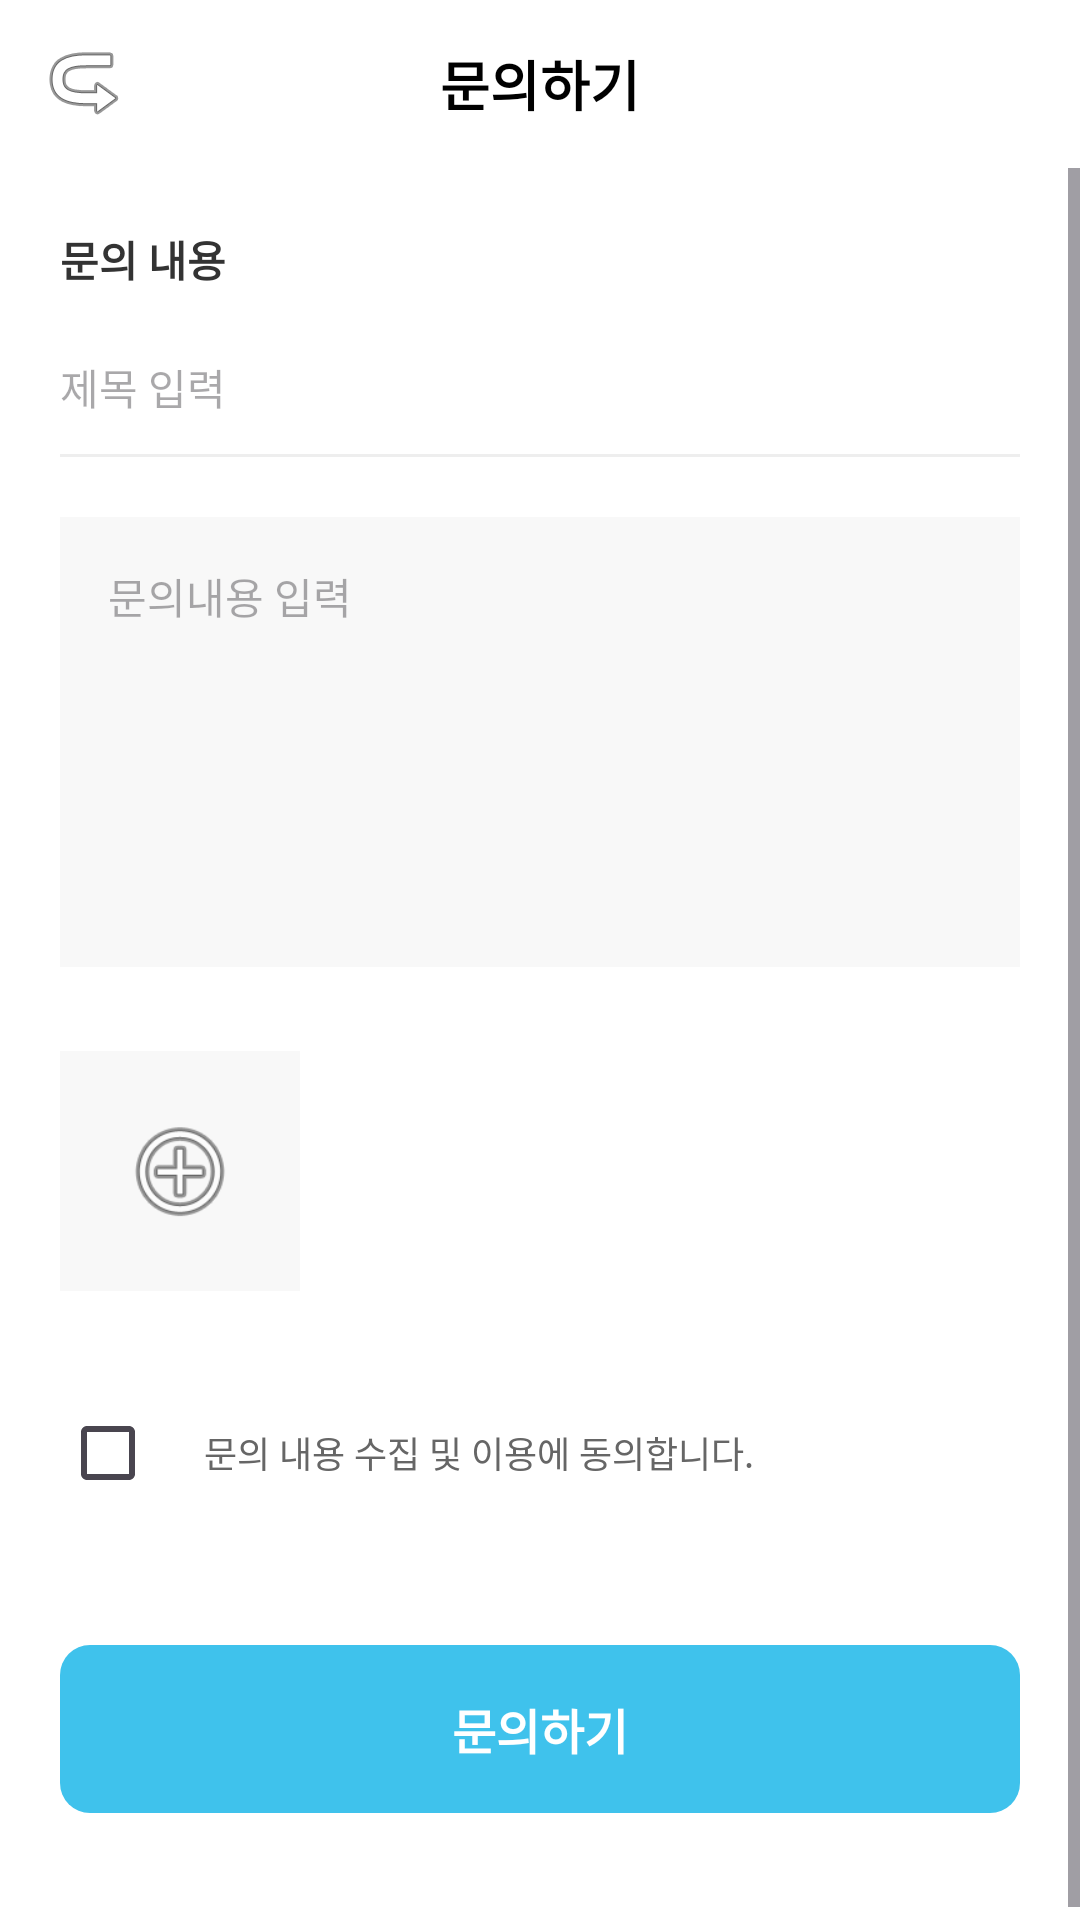

Icon click points for this 1080 × 1920 phone screenshot, format [x,y]:
add: [180,1171]
